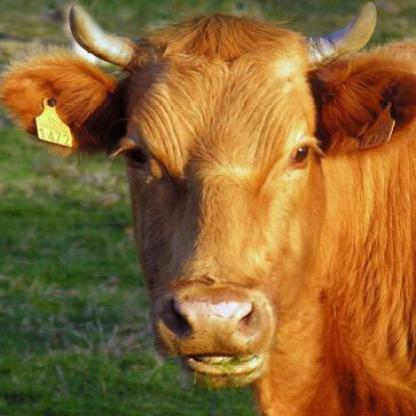lower: (213, 373, 239, 385)
mouth: (150, 281, 276, 392)
upper: (202, 312, 226, 336)
